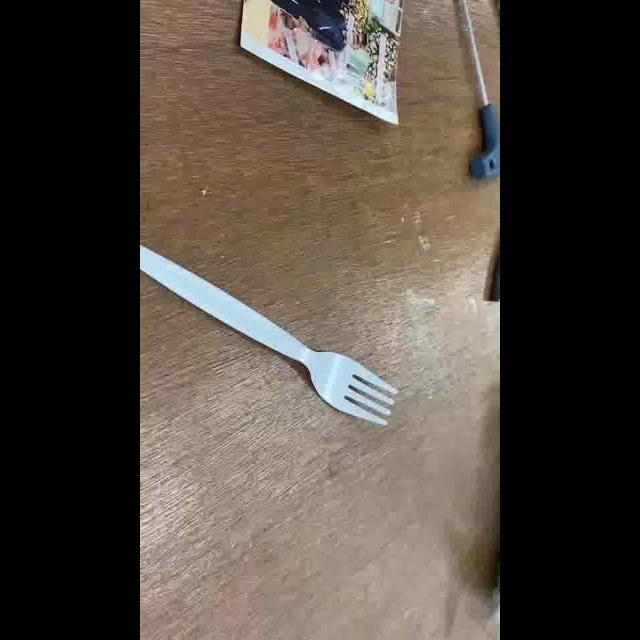plastic_cultery: (140, 242, 402, 432)
